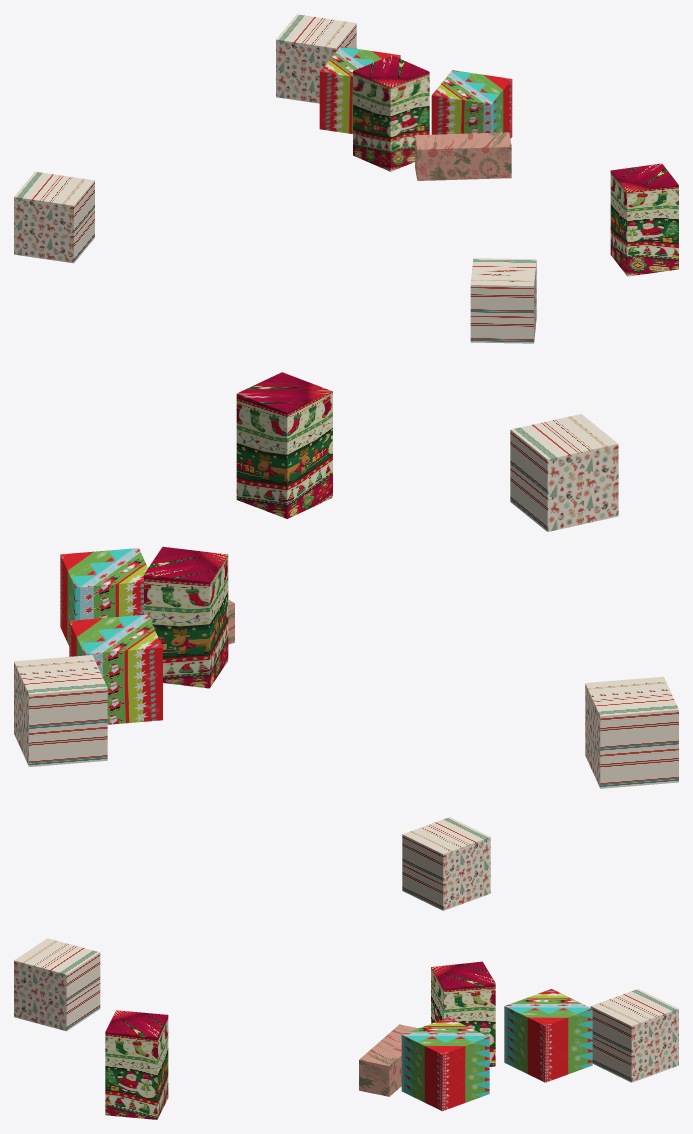
Rendered from Regalos.fbx.
3 renders of one model, top to bottom at view 1: azimuth 30°, elevation 25°; view 2: azimuth 150°, elevation 25°; view 3: azimuth 270°, elevation 25°, orthographic. The views are drawn at different scales.
Parts seen in each view (by area): view 1: polySurface455; view 2: polySurface455; view 3: polySurface455.
Boxes of the visible parts, <box> form: polySurface455: <box>14,14,678,343</box>; polySurface455: <box>14,372,678,788</box>; polySurface455: <box>14,817,678,1119</box>.
Size of the model in its own units: 16.72 by 2.9 by 19.58.
Materials: 4 (4 with a texture image).
